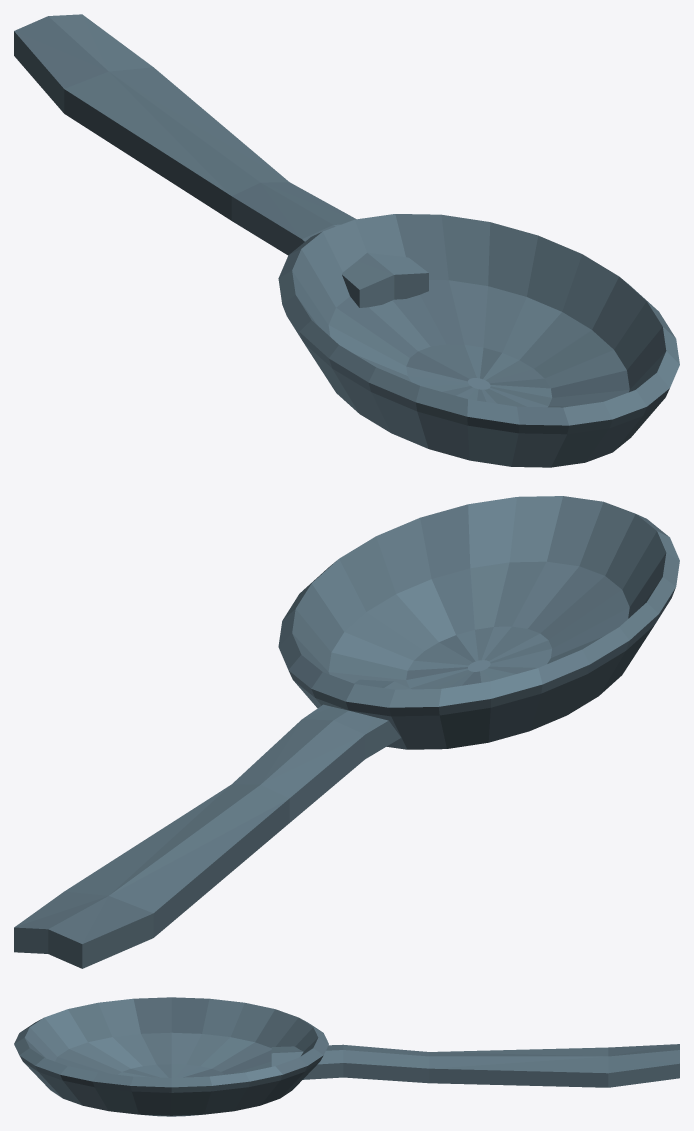
The model's file is ED_10_Concave_Soup_Spoon.fbx.
3 views of the same model, one above another, from view 1: azimuth 30°, elevation 25°; view 2: azimuth 150°, elevation 25°; view 3: azimuth 270°, elevation 25° (orthographic). The views are drawn at different scales.
Parts seen in each view (by area): view 1: ED_10_Concave_Soup_Spoon; view 2: ED_10_Concave_Soup_Spoon; view 3: ED_10_Concave_Soup_Spoon.
Part boxes in pixels (left/top/right/bottom): ED_10_Concave_Soup_Spoon: left=14, top=14, right=679, bottom=467; ED_10_Concave_Soup_Spoon: left=14, top=496, right=679, bottom=968; ED_10_Concave_Soup_Spoon: left=14, top=997, right=679, bottom=1116.
Bounding box in the file's own units: 0.572 × 0.192 × 1.86.
